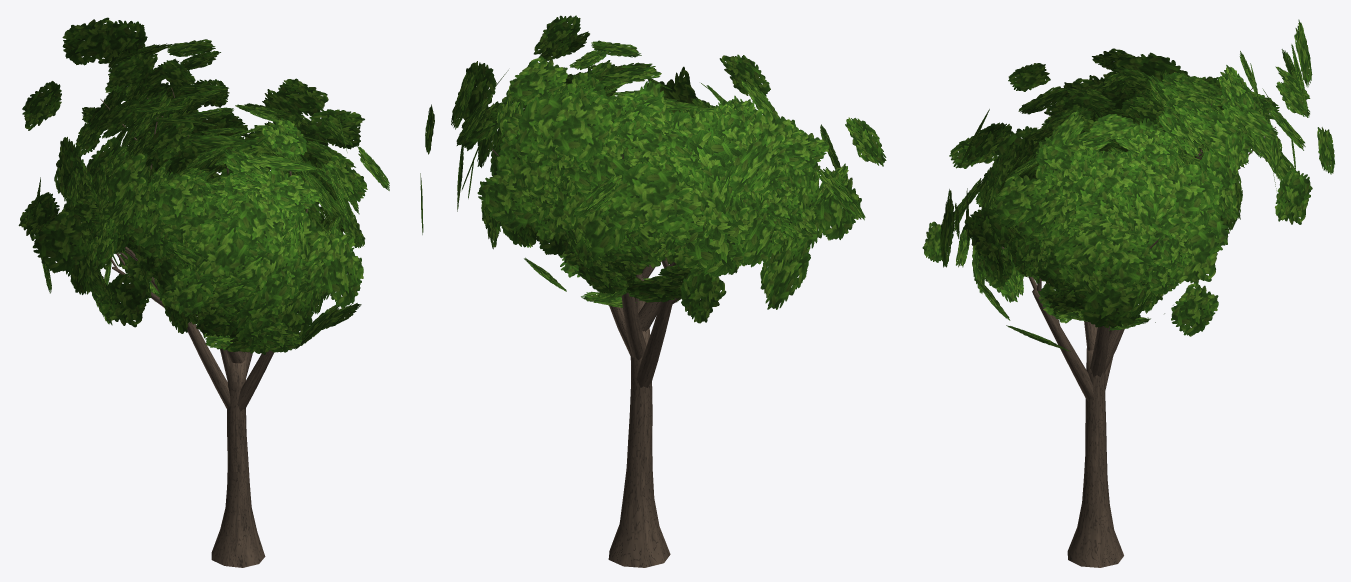
File: tree_lime.glb
The picture shows the model from 3 angles, left to right: view 1: azimuth 30°, elevation 25°; view 2: azimuth 150°, elevation 25°; view 3: azimuth 270°, elevation 25°; orthographic projection. The views are drawn at different scales.
Parts seen in each view (by area): view 1: tree_lime; view 2: tree_lime; view 3: tree_lime.
Boxes of the visible parts, x1=… form: tree_lime: x1=18, y1=17, x2=389, y2=567; tree_lime: x1=420, y1=15, x2=886, y2=567; tree_lime: x1=922, y1=19, x2=1334, y2=567.
Bounding box in the file's own units: 8.32 × 10.83 × 8.08.
Materials: 2 (2 with a texture image).
